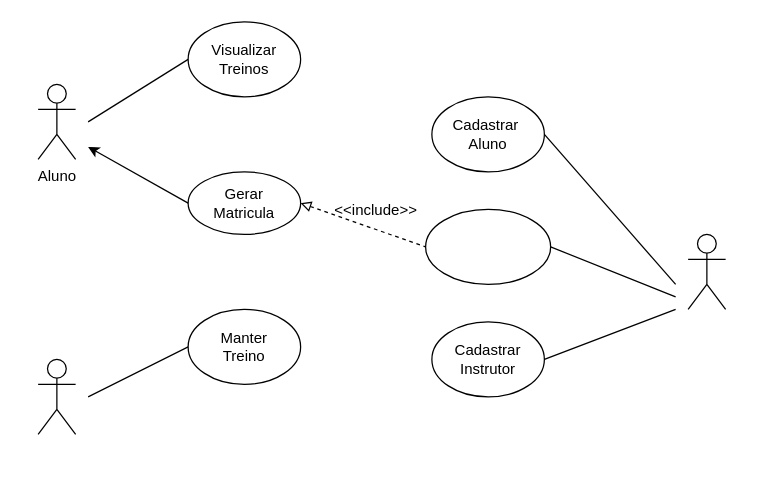
Image size: 775x483. Some labels were removed from this diagram. The shapes that lost their labels are listed below. From the top down, each one's centre as x and y in pixels, then its label:
the point at 487,246: Cadastrar Plano de Mensalidade
the point at 706,271: Administrador
the point at 56,396: Instrutores
